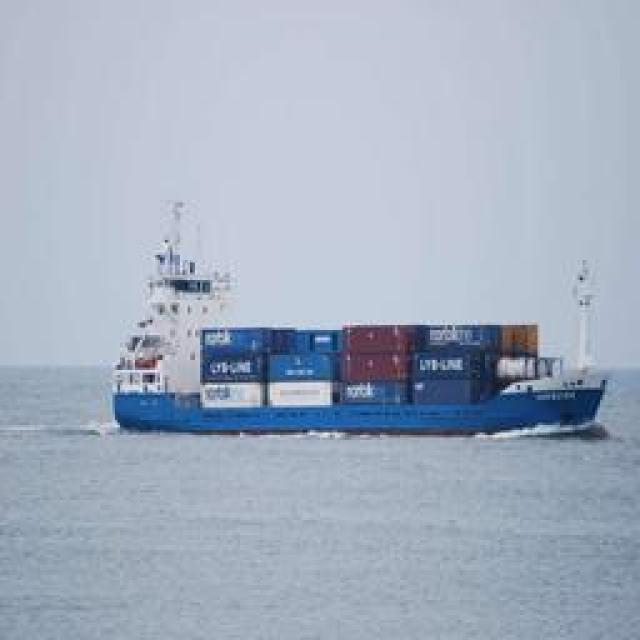CIV_Ship: (112, 278, 612, 440)
